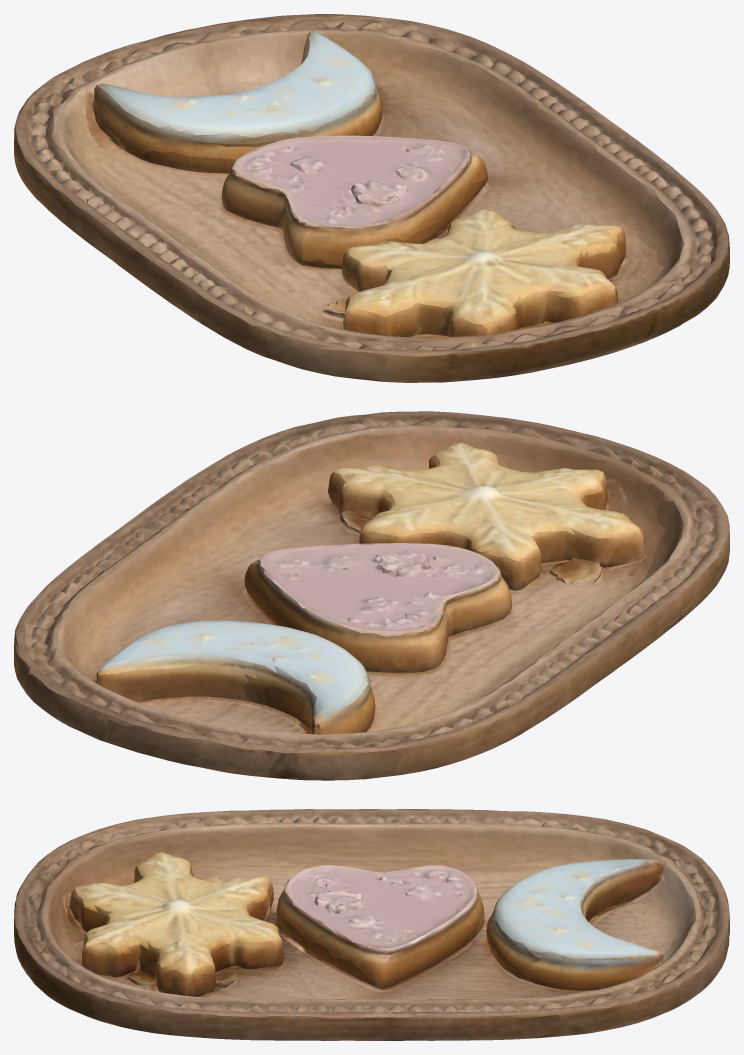
File: cookie-trio.glb
3 renders of one model, top to bottom at view 1: azimuth 30°, elevation 25°; view 2: azimuth 150°, elevation 25°; view 3: azimuth 270°, elevation 25°, orthographic. The views are drawn at different scales.
Visible parts, largest first — view 1: geometry_0; view 2: geometry_0; view 3: geometry_0.
Boxes of the visible parts, bbox=[...] form: geometry_0: bbox=[14, 14, 729, 382]; geometry_0: bbox=[14, 411, 729, 780]; geometry_0: bbox=[14, 809, 729, 1040].
Size of the model in its own units: 0.32 by 0.041 by 0.4648.
Materials: 1 (1 with a texture image).
